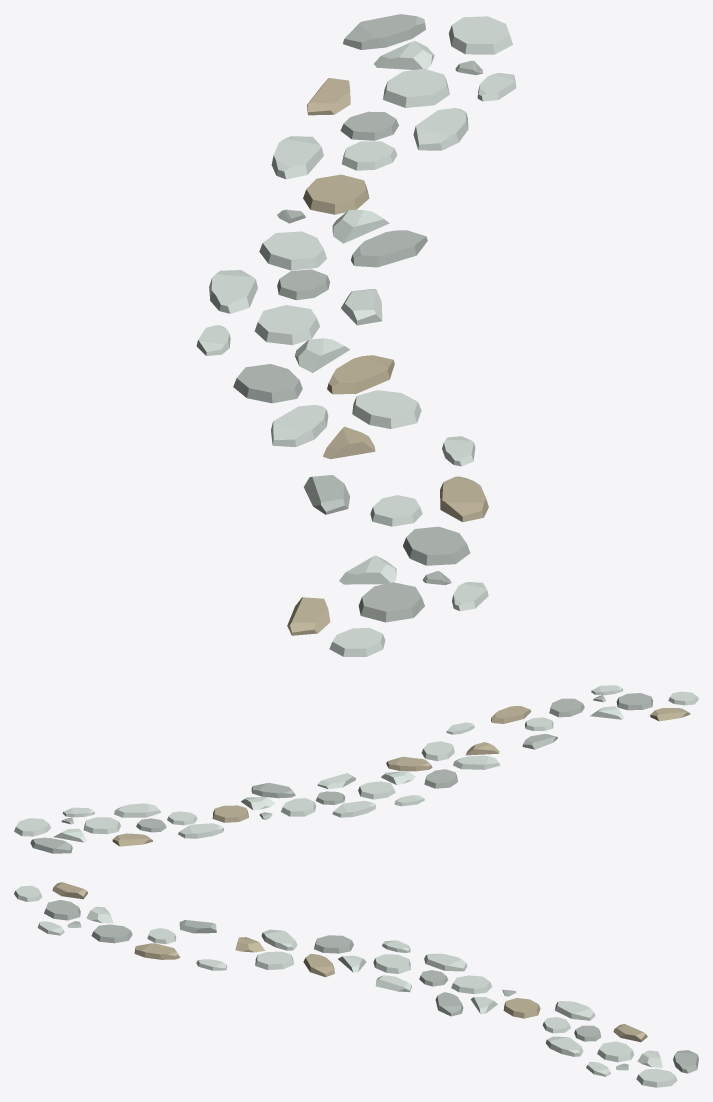
Rendered from RockPath_A.fbx.
The picture shows the model from 3 angles, top to bottom: view 1: azimuth 30°, elevation 25°; view 2: azimuth 150°, elevation 25°; view 3: azimuth 270°, elevation 25°; orthographic projection. The views are drawn at different scales.
Visible parts, largest first — view 1: RockPath_A, RockPath_A.002, RockPath_A.001, RockPath_A.003, RockPath_A.004; view 2: RockPath_A, RockPath_A.002, RockPath_A.001, RockPath_A.003, RockPath_A.004; view 3: RockPath_A.002, RockPath_A, RockPath_A.003, RockPath_A.001, RockPath_A.004.
Part boxes in pixels (bbox=[...]): RockPath_A: bbox=[307, 14, 516, 150]; RockPath_A.002: bbox=[196, 269, 394, 403]; RockPath_A.001: bbox=[259, 136, 427, 270]; RockPath_A.003: bbox=[271, 390, 488, 526]; RockPath_A.004: bbox=[287, 526, 488, 656]; RockPath_A: bbox=[14, 803, 166, 853]; RockPath_A.002: bbox=[315, 756, 457, 817]; RockPath_A.001: bbox=[167, 782, 316, 838]; RockPath_A.003: bbox=[421, 706, 557, 769]; RockPath_A.004: bbox=[549, 685, 698, 721]; RockPath_A.002: bbox=[303, 935, 467, 992]; RockPath_A: bbox=[546, 1024, 698, 1087]; RockPath_A.003: bbox=[134, 920, 297, 970]; RockPath_A.001: bbox=[435, 975, 595, 1033]; RockPath_A.004: bbox=[14, 882, 132, 943].
Bounding box in the file's own units: 1168 × 15.42 × 1668.
